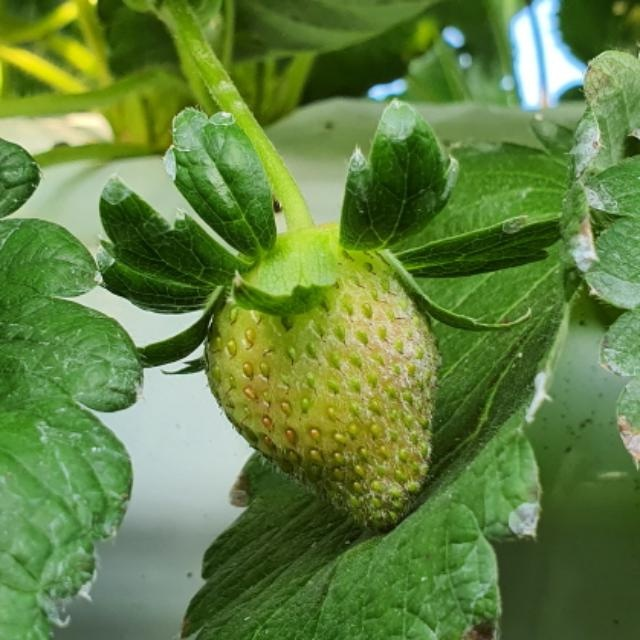Powdery Mildew Fruit: (286, 275, 440, 529)
